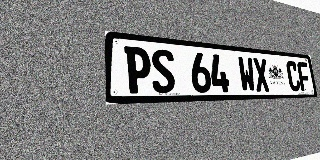4: (209, 54, 230, 92)
6: (190, 52, 212, 93)
C: (285, 61, 301, 91)
F: (297, 62, 311, 91)
P: (124, 46, 152, 94)
S: (150, 48, 176, 93)
W: (237, 56, 256, 92)
X: (252, 58, 270, 92)
